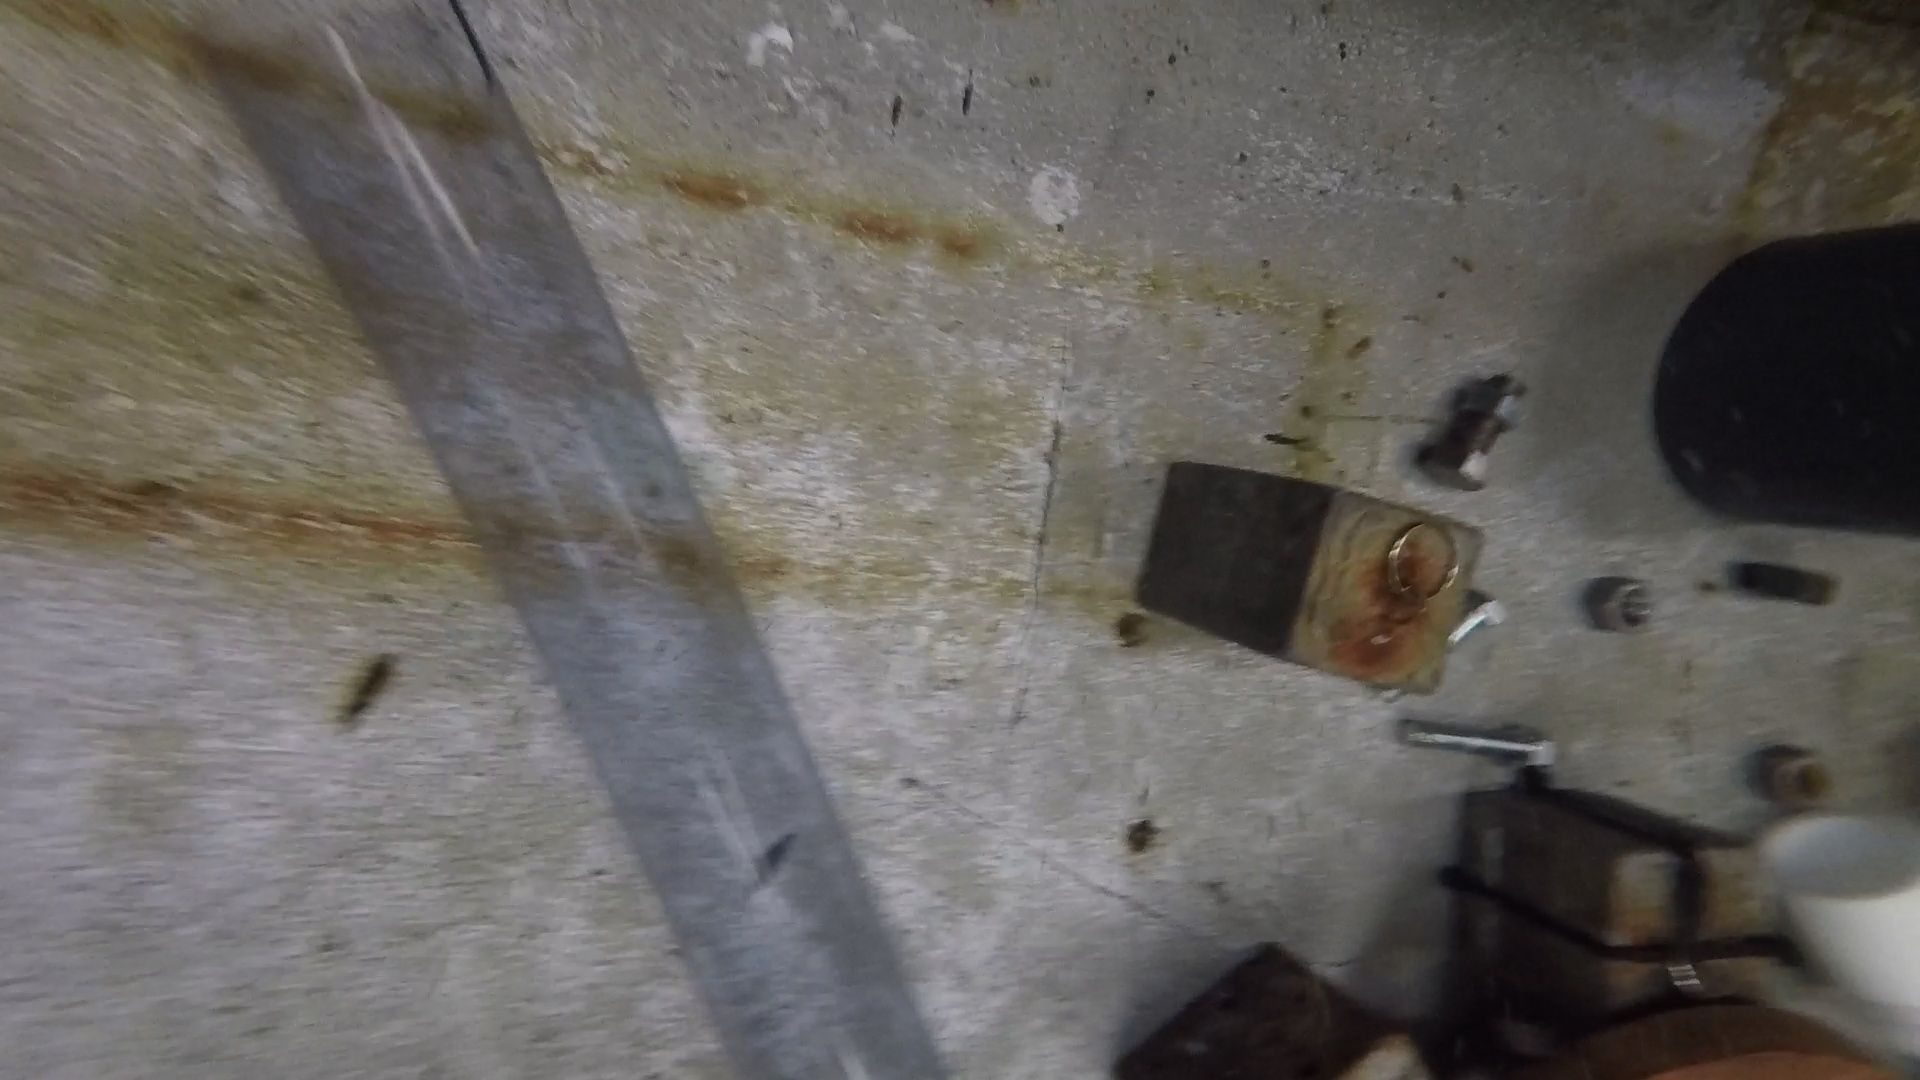bolt: (1381, 597, 1509, 703), (1424, 375, 1534, 487), (1400, 719, 1557, 770), (1754, 741, 1833, 804), (1738, 560, 1838, 607), (1457, 382, 1526, 433)
flange: (1489, 1004, 1905, 1080)
led_block: (1135, 459, 1487, 702), (1449, 782, 1801, 1014), (1112, 942, 1431, 1080)
nut: (1588, 575, 1654, 633)
pipe: (227, 1, 942, 1080), (1651, 218, 1917, 537), (1759, 804, 1920, 996)
